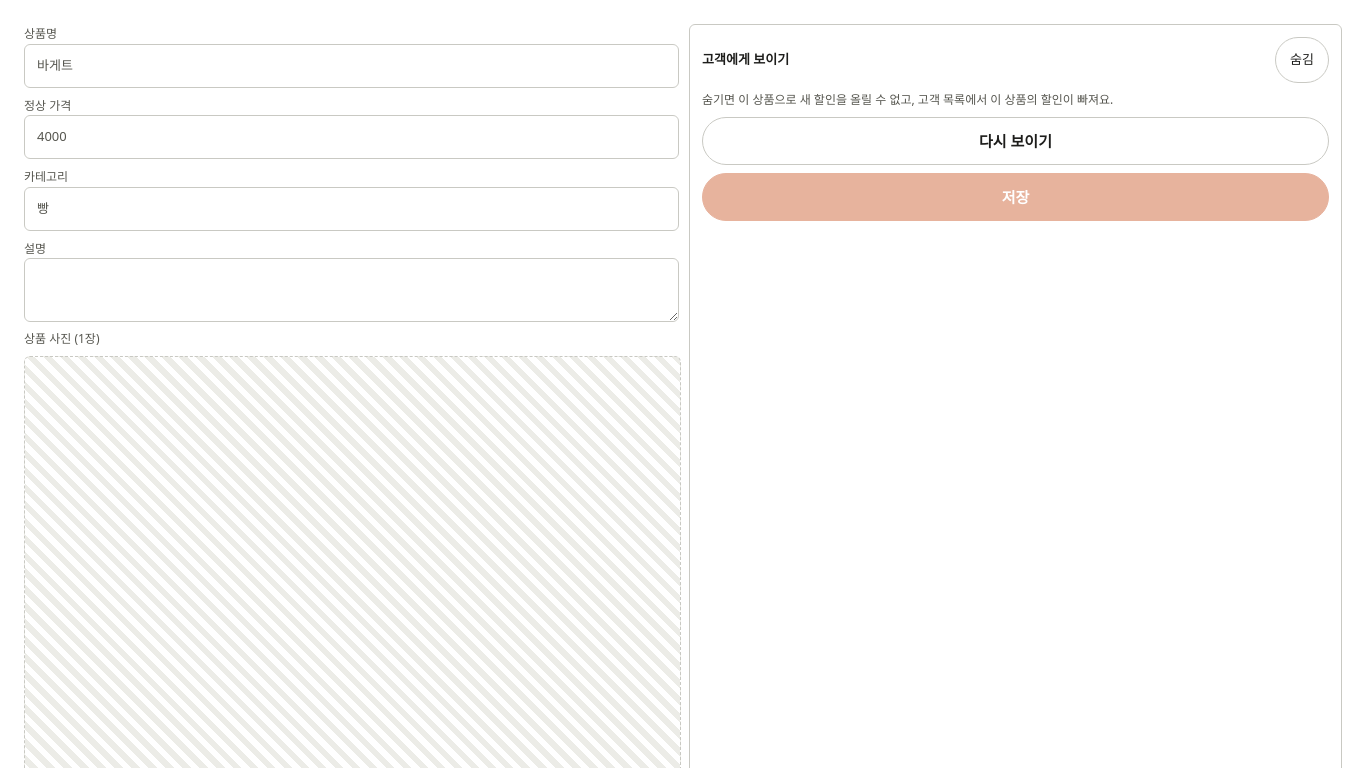
it: features/products presentation ProductEditForm › 노출 ↔ 숨김 › 「다시 보이기」가 PRODUCT_ALREADY_ACTIVE면 칩 「노출 중」·「숨기기」로 바뀌고 오류가 없다
The image size is (1366, 768).
Click the button "다시 보이기" at (1016, 141), box left=702, top=117, right=1329, bottom=165
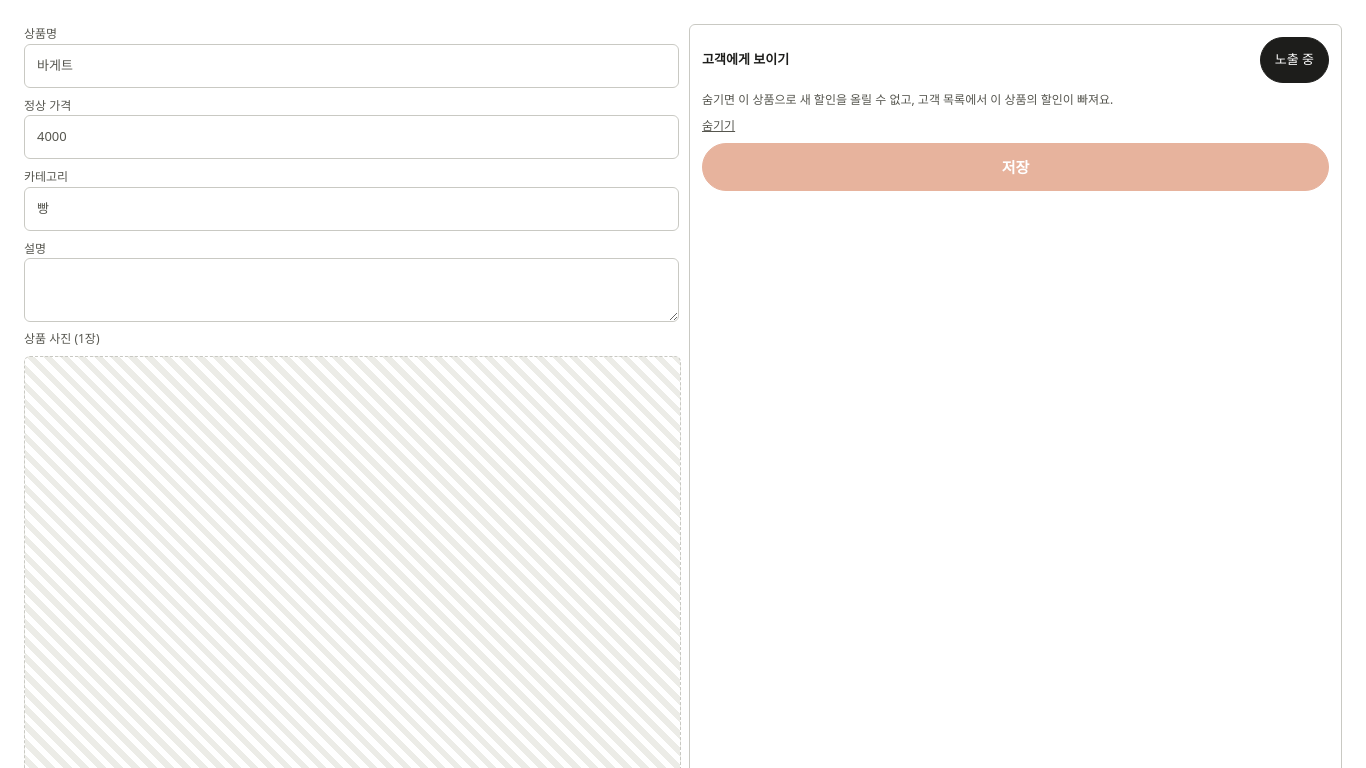
Expected: the text "노출 중" is shown, left=1260, top=37, right=1329, bottom=83
Expected: the button "숨기기" is shown, left=702, top=117, right=1329, bottom=135
